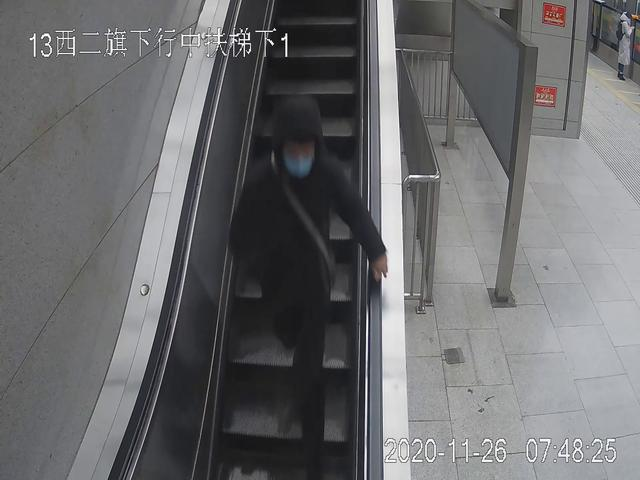person: (229, 99, 387, 438), (614, 11, 640, 83)
